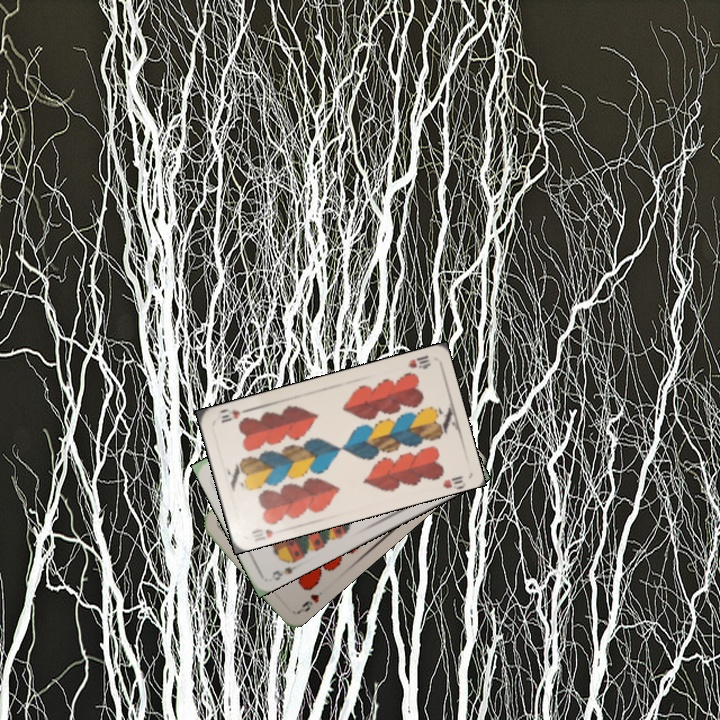H10: (404, 351, 433, 372), (248, 524, 275, 540)
H9: (294, 590, 322, 615)
S9: (268, 553, 301, 583)
